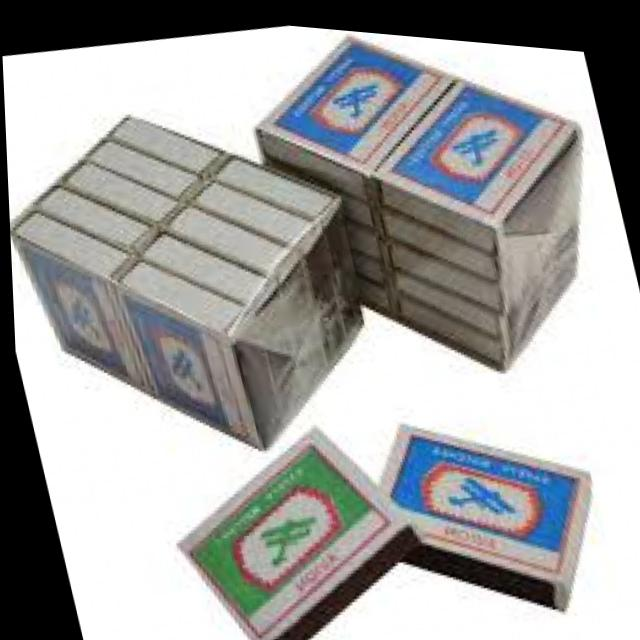match: (340, 373, 627, 640), (143, 390, 443, 640), (348, 37, 608, 251), (229, 16, 488, 222)
